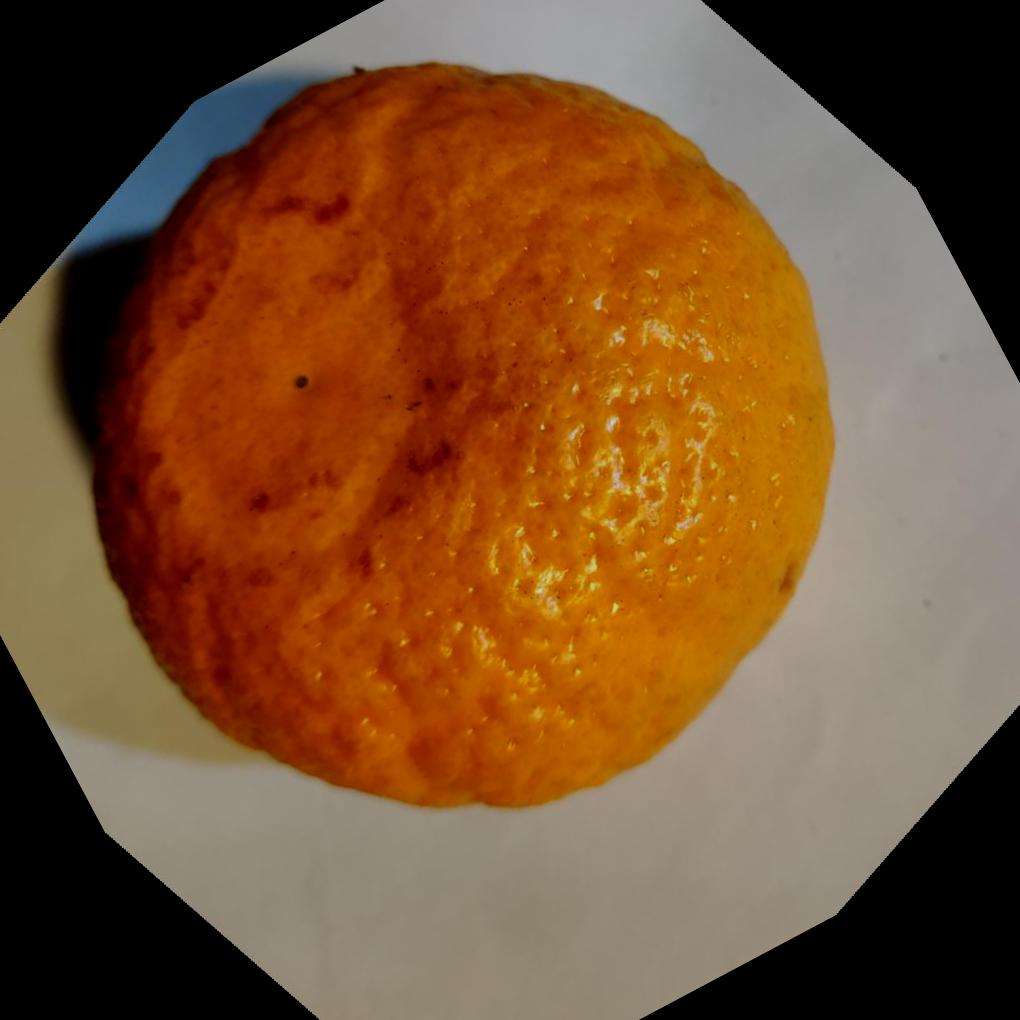FreshGuava: (85, 60, 833, 814)
